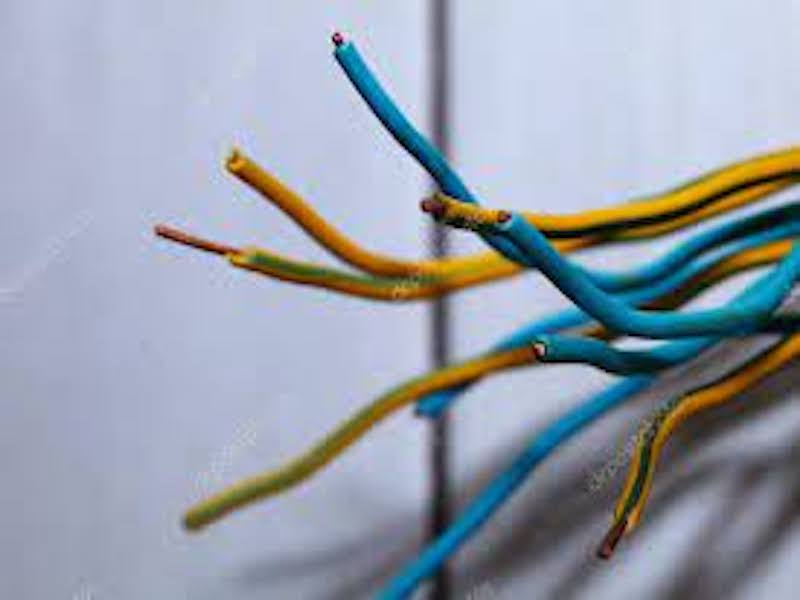combustible substance: (299, 239, 509, 386)
